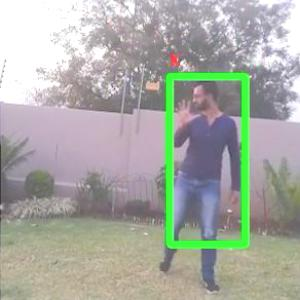follow_hand: (172, 94, 202, 126)
